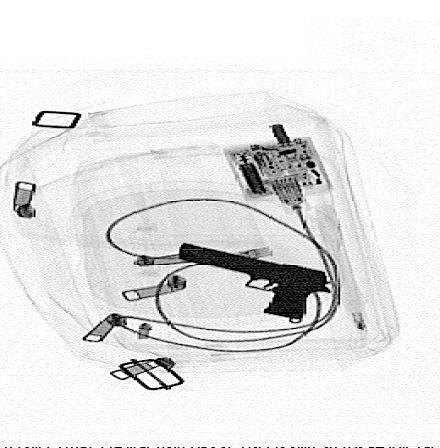Gun: (176, 242, 336, 320)
